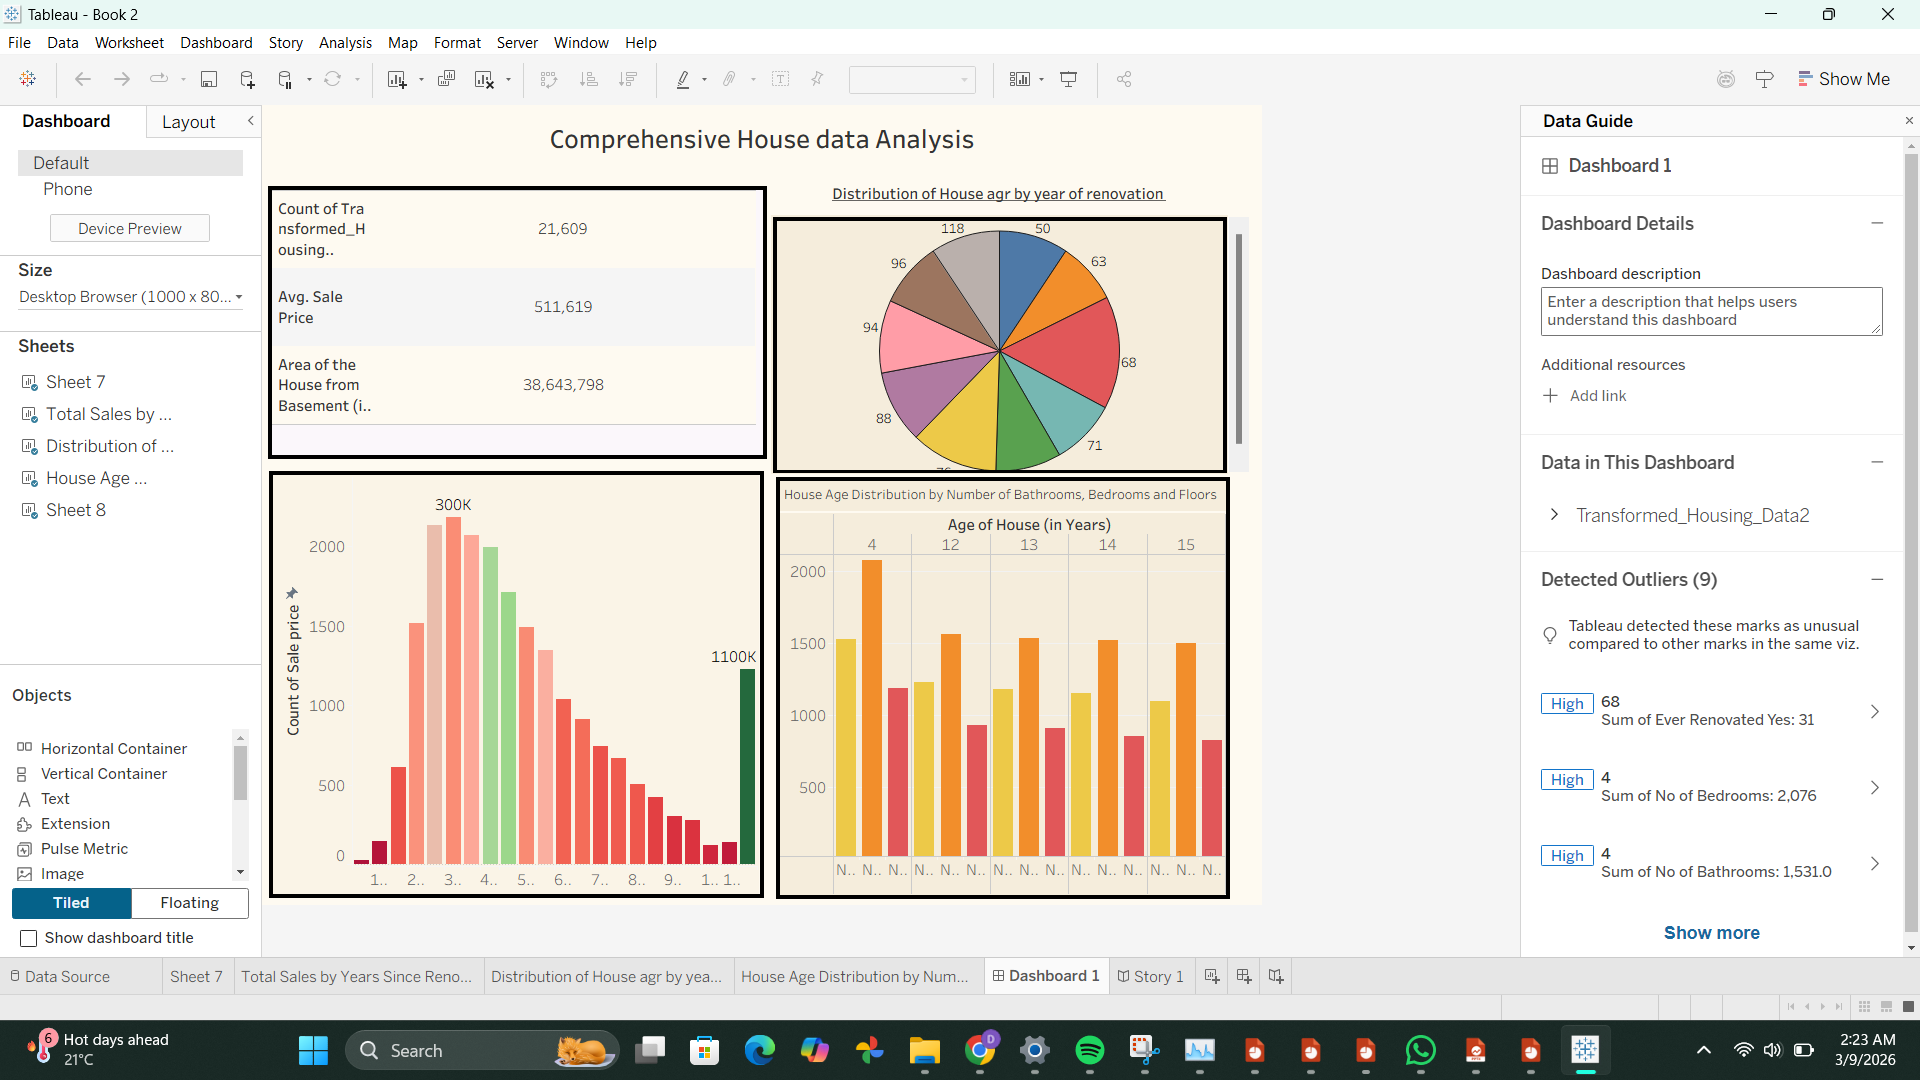

This screenshot's page, from the dashboard's own definition file:
{"tool":"tableau","page":{"name":"Dashboard 1","canvas":[1000,800],"ordinal":0},"visuals":[{"type":"worksheet","title":"Sheet 8","mark":"Automatic","box":[8,8,984,784]},{"type":"worksheet","title":"Distribution of House agr by year of renovation ","mark":"Pie","box":[509,74,480,295]},{"type":"worksheet","title":"Sheet 7","mark":"Automatic","box":[6,81,499,273]},{"type":"worksheet","title":"Total Sales by Years Since Renovation","mark":"Bar","rows":["Transformed_Housing_Data2.csv_6B22D56C5FB644CFBF648347196040"],"cols":["Sale Price (bin)"],"box":[7,366,495,427]},{"type":"worksheet","title":"House Age Distribution by Number of Bathrooms, Bedrooms and Floors","mark":"Bar","cols":["Age of House (in Years)"],"box":[514,372,454,422]}]}

Visuals, with their boxes on the page's 1000x800 design canvas (x1, y1, x2, y2). These are canvas units, not pixel positions in the 1920x1080 screenshot, which may show the page scaled, cropped or inside an application window:
"Sheet 8" worksheet: 8, 8, 992, 792
"Distribution of House agr by year of renovation " worksheet (Pie marks): 509, 74, 989, 369
"Sheet 7" worksheet: 6, 81, 505, 354
"Total Sales by Years Since Renovation" worksheet (Bar marks): 7, 366, 502, 793
"House Age Distribution by Number of Bathrooms, Bedrooms and Floors" worksheet (Bar marks): 514, 372, 968, 794
